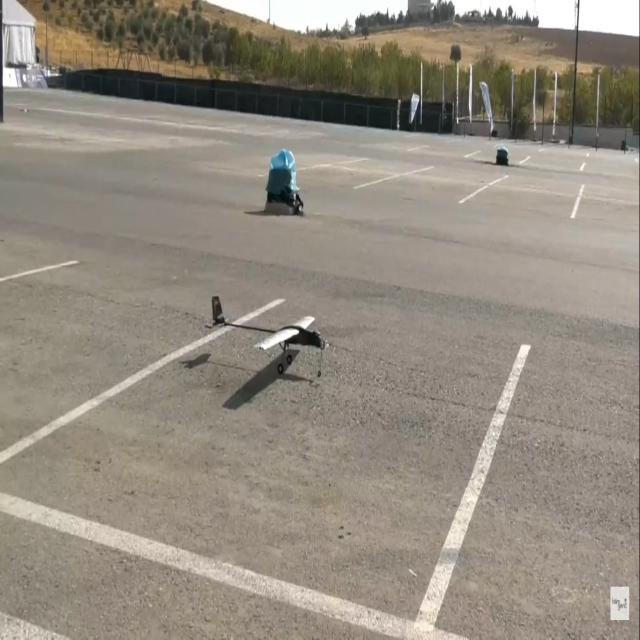iha: (231, 328, 294, 345)
